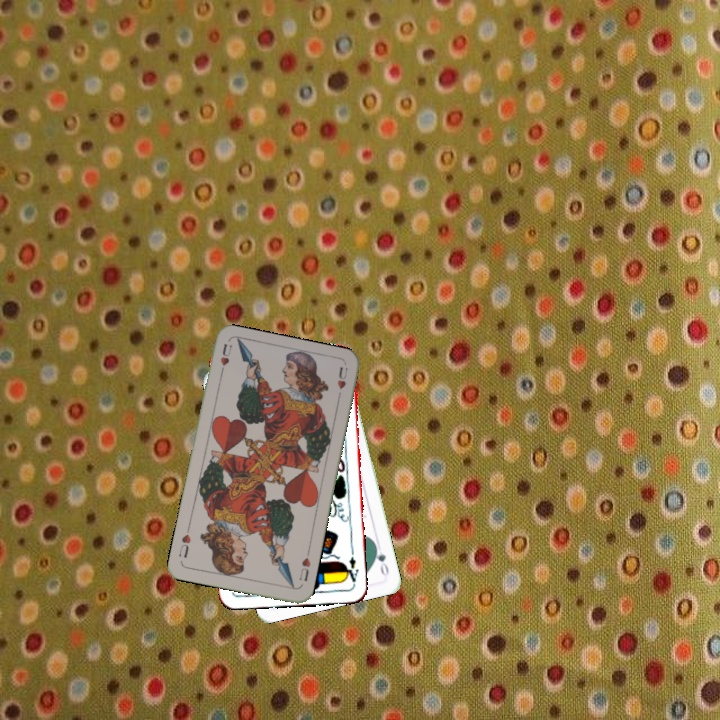EA: (341, 547, 361, 588)
GO: (371, 540, 391, 579)
HU: (216, 340, 234, 379), (295, 554, 313, 584)
